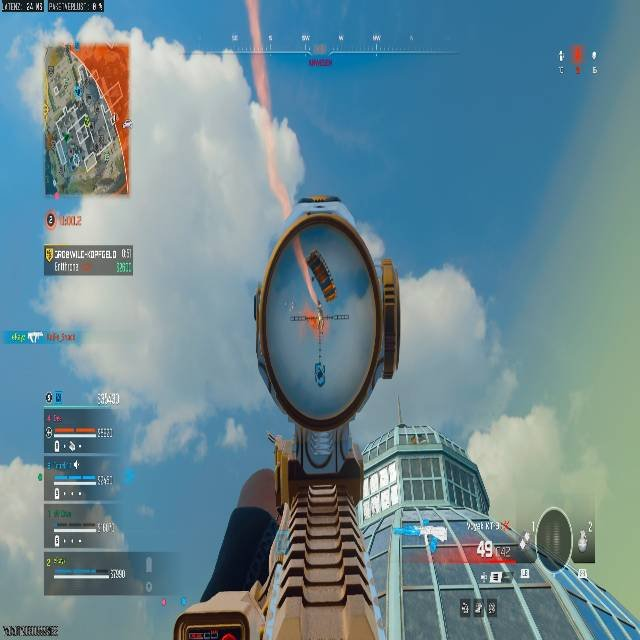head: (250, 191, 401, 427)
player: (171, 188, 545, 640), (314, 360, 325, 386)
